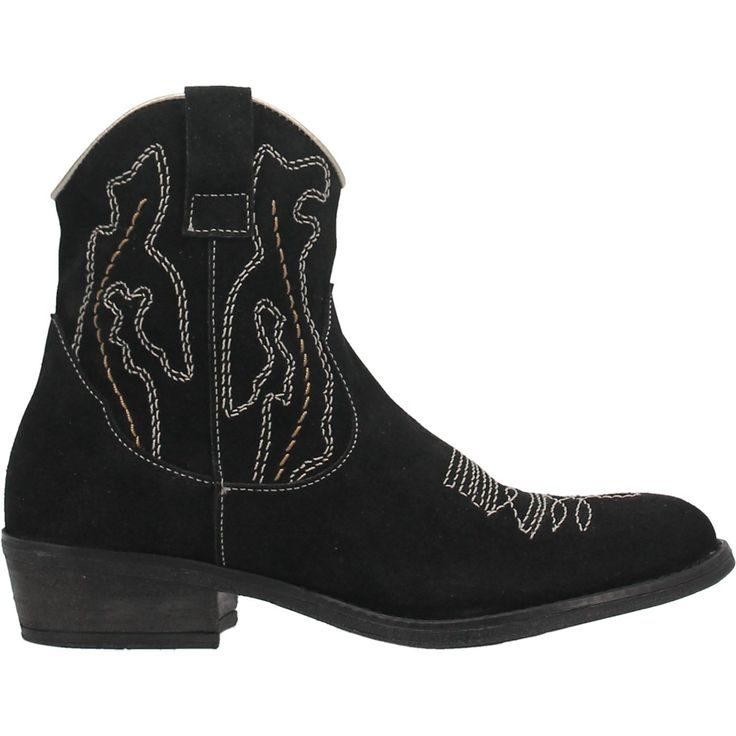gamuza: (6, 85, 720, 622)
